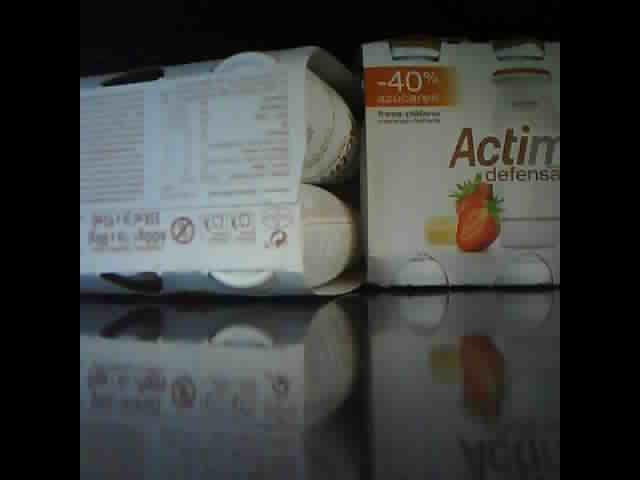actimel: (81, 45, 364, 299), (359, 35, 561, 289)
